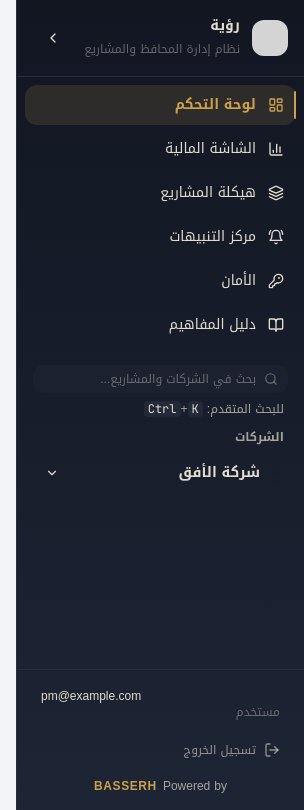
Test case: AppSidebar › opens the branches a search matches, hides the rest and the add buttons, clears, and says when nothing matches
Step 1. Type " النفق " into the field named "بحث في القائمة الجانبية" → (160, 379), box [33,365,288,393]
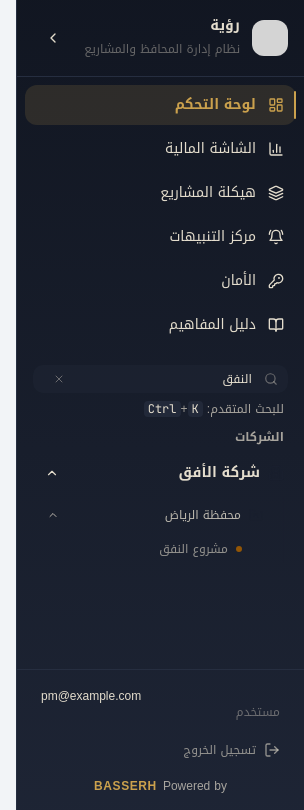
Step 2. Click the button named "مسح البحث" → (53, 379), box [41,367,65,391]
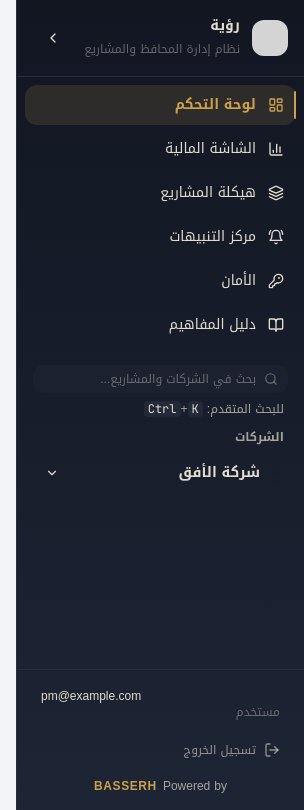
Check: the field with placeholder "بحث في الشركات والمشاريع..." is empty
Step 3. Type "zzz" into the field with placeholder "بحث في الشركات والمشاريع..." → (160, 379), box [33,365,288,393]
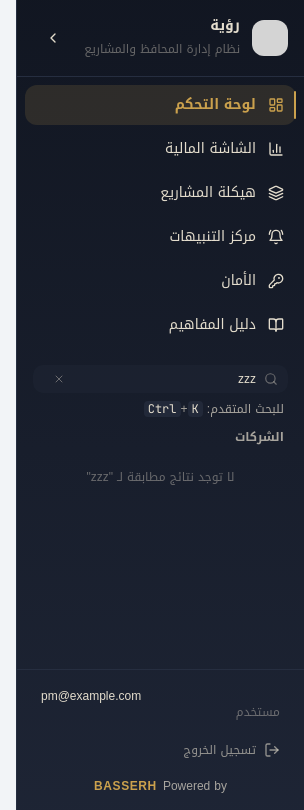
Check: the text "لا توجد نتائج مطابقة لـ \"zzz\"" is shown, box [86,466,234,488]
